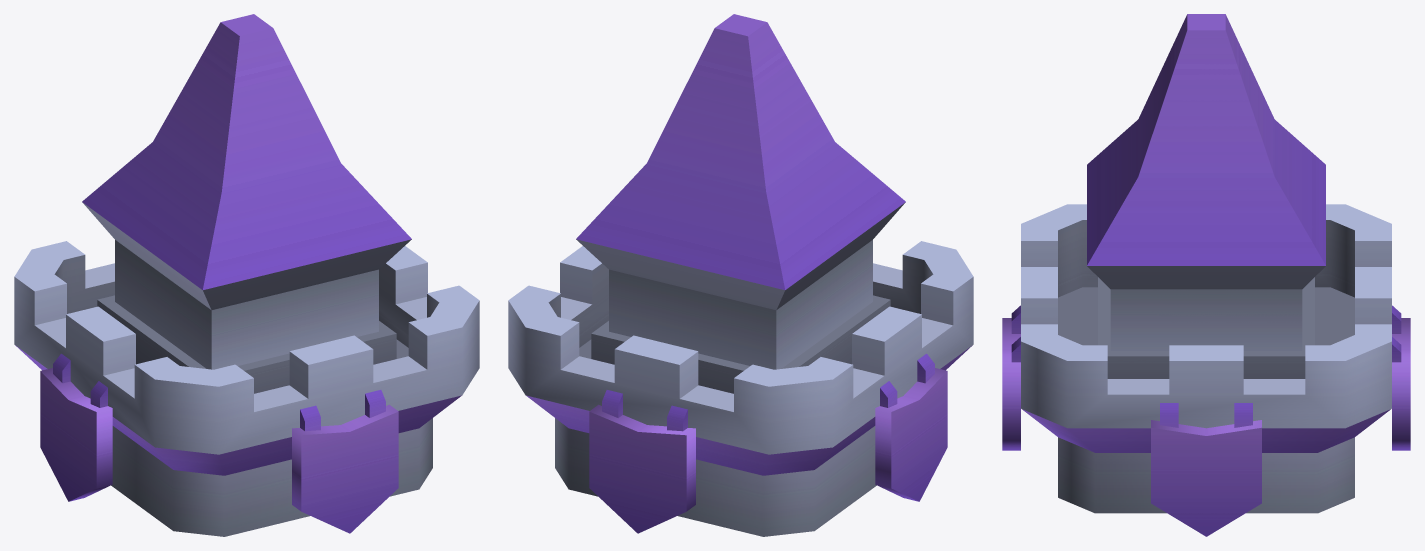
Rendered from kenney-tower-defense-tower-square-roof-a.glb.
3 views of the same model, side by side, from view 1: azimuth 30°, elevation 25°; view 2: azimuth 150°, elevation 25°; view 3: azimuth 270°, elevation 25° (orthographic).
Visible parts, largest first — view 1: tower-square-roof-a; view 2: tower-square-roof-a; view 3: tower-square-roof-a.
Part boxes in pixels (left/top/right/bottom): tower-square-roof-a: left=14, top=14, right=479, bottom=536; tower-square-roof-a: left=508, top=14, right=973, bottom=536; tower-square-roof-a: left=1002, top=14, right=1410, bottom=536.
Size of the model in its own units: 1.1 by 1.27 by 1.1.
Materials: 1 (1 with a texture image).
